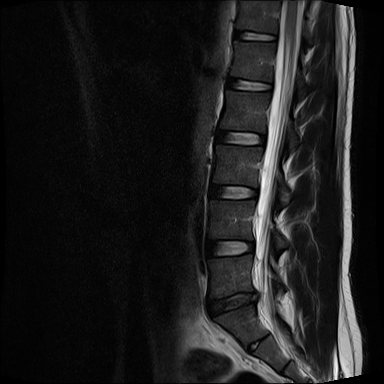Lumbar Disc Bulge LDB: (201, 285, 265, 320)
Normal IVD: (201, 234, 258, 258), (210, 126, 269, 147), (205, 179, 260, 201), (219, 75, 276, 94), (227, 27, 280, 44)
Spinal Stenosis SS: (247, 283, 265, 308)
